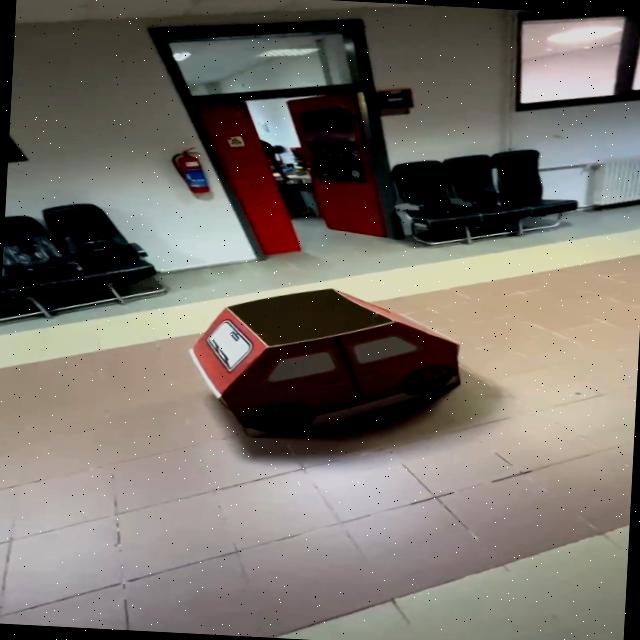red_car: (132, 265, 507, 466)
